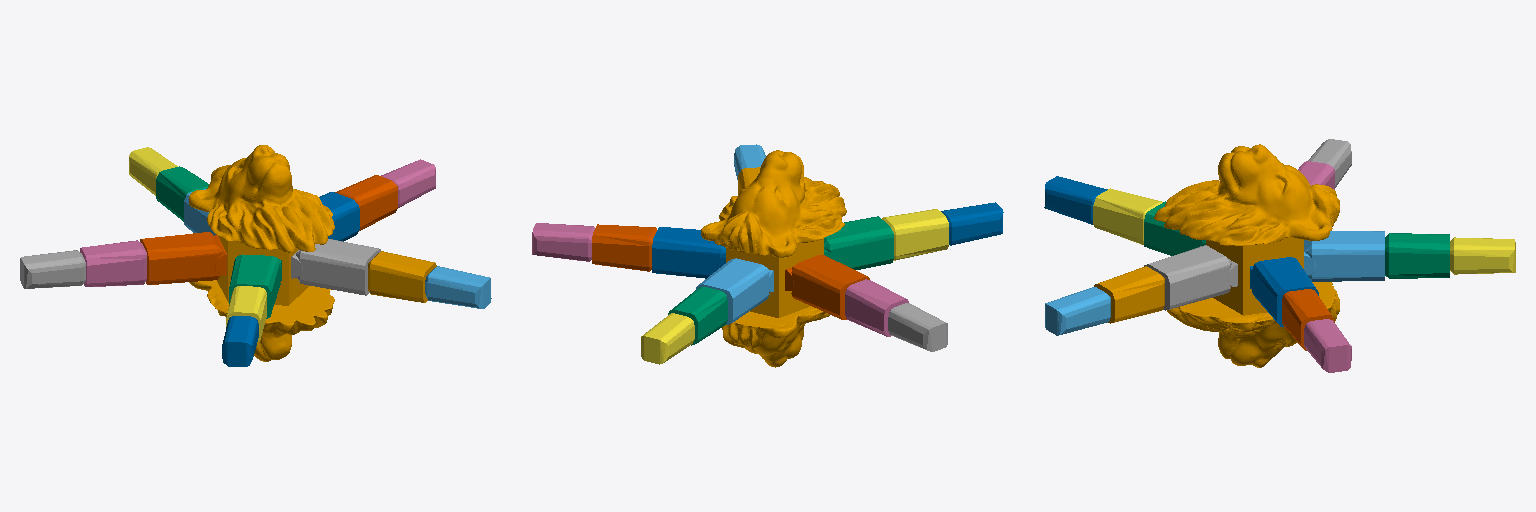
URDF robot description (buer):
<?xml version="1.0"?>
<robot name="buer">

  <!-- Head (Base link) -->
  <link name="head">
    <visual>
      <geometry>
        <mesh filename="obj/head.obj"/>
      </geometry>
      <!-- 材质可省略或补全 -->
    </visual>
    <collision>
      <geometry>
        <cylinder radius="1.0" length="1.0"/>
      </geometry>
    </collision>
    <inertial>
      <origin xyz="0 0 0" rpy="0 0 0"/>
      <mass value="8.0"/>
      <inertia ixx="1.5" ixy="0" ixz="0" iyy="1.5" iyz="0" izz="2.0"/>
    </inertial>
    <!-- IMU -->
    <sensor type="imu" name="imu">
      <origin xyz="0 0 0" rpy="0 0 0"/>
    </sensor>
  </link>

  <!-- Leg 1 -->
  <link name="leg1_lap">
    <visual>
      <geometry>
        <mesh filename="obj/lap.obj"/>
      </geometry>
    </visual>
    <collision>
      <geometry>
        <mesh filename="obj/lap.obj"/>
      </geometry>
    </collision>
    <inertial>
      <origin xyz="0 0 0.5" rpy="0 0 0"/>
      <mass value="1.2"/>
      <inertia ixx="0.08" ixy="0" ixz="0" iyy="0.08" iyz="0" izz="0.01"/>
    </inertial>
  </link>
  <joint name="leg1_lap_joint" type="revolute">
    <parent link="head"/>
    <child link="leg1_lap"/>
    <origin xyz="0 0.5505528 0" rpy="-1.57 0 0"/>
    <axis xyz="1 0 0"/>
    <limit effort="100.0" velocity="10.0" lower="-0.5" upper="0.5"/>
  </joint>

  <link name="leg1_calf">
    <visual>
      <geometry>
        <mesh filename="obj/calf.obj"/>
      </geometry>
    </visual>
    <collision>
      <geometry>
        <mesh filename="obj/calf.obj"/>
      </geometry>
    </collision>
    <inertial>
      <origin xyz="0 0 0.4" rpy="0 0 0"/>
      <mass value="0.8"/>
      <inertia ixx="0.04" ixy="0" ixz="0" iyy="0.04" iyz="0" izz="0.005"/>
    </inertial>
  </link>
  <joint name="leg1_calf_joint" type="revolute">
    <parent link="leg1_lap"/>
    <child link="leg1_calf"/>
    <origin xyz="0 0 1" rpy="0 0 1.5708"/> <!-- 90度=1.5708弧度 -->
    <axis xyz="1 0 0"/>
    <limit effort="100.0" velocity="10.0" lower="-1.57" upper="1.57" />
  </joint>

  <link name="leg1_foot">
    <visual>
      <geometry>
        <mesh filename="obj/foot.obj"/>
      </geometry>
    </visual>
    <collision>
      <geometry>
        <mesh filename="obj/foot.obj"/>
      </geometry>
    </collision>
    <inertial>
      <origin xyz="0 0 0" rpy="0 0 0"/>
      <mass value="0.5"/>
      <inertia ixx="0.02" ixy="0" ixz="0" iyy="0.02" iyz="0" izz="0.002"/>
    </inertial>
  </link>
  <joint name="leg1_foot_joint" type="revolute">
    <parent link="leg1_calf"/>
    <child link="leg1_foot"/>
    <origin xyz="0 0 0.8" rpy="0 0 0"/>
    <axis xyz="1 0 0"/>
    <limit effort="100.0" velocity="10.0" lower="-1.57" upper="1.57" />
  </joint>

  <!-- Leg 2 -->
  <link name="leg2_lap">
    <visual>
      <geometry>
        <mesh filename="obj/lap.obj"/>
      </geometry>
    </visual>
    <collision>
      <geometry>
        <mesh filename="obj/lap.obj"/>
      </geometry>
    </collision>
    <inertial>
      <origin xyz="0 0 0.5" rpy="0 0 0"/>
      <mass value="1.2"/>
      <inertia ixx="0.08" ixy="0" ixz="0" iyy="0.08" iyz="0" izz="0.01"/>
    </inertial>
  </link>
  <joint name="leg2_lap_joint" type="revolute">
    <parent link="head"/>
    <child link="leg2_lap"/>
    <origin xyz="0.5236 0.1701 0.0" rpy="-1.57 0 -1.257"/>
    <axis xyz="1 0 0"/>
    <limit effort="100.0" velocity="10.0" lower="-0.5" upper="0.5" />
  </joint>
  <link name="leg2_calf">
    <visual>
      <geometry>
        <mesh filename="obj/calf.obj"/>
      </geometry>
    </visual>
    <collision>
      <geometry>
        <mesh filename="obj/calf.obj"/>
      </geometry>
    </collision>
    <inertial>
      <origin xyz="0 0 0.4" rpy="0 0 0"/>
      <mass value="0.8"/>
      <inertia ixx="0.04" ixy="0" ixz="0" iyy="0.04" iyz="0" izz="0.005"/>
    </inertial>
  </link>
  <joint name="leg2_calf_joint" type="revolute">
    <parent link="leg2_lap"/>
    <child link="leg2_calf"/>
    <origin xyz="0 0 1" rpy="0 0 1.5708"/>
    <axis xyz="1 0 0"/>
    <limit effort="100.0" velocity="10.0" lower="-1.57" upper="1.57" />
  </joint>
  <link name="leg2_foot">
    <visual>
      <geometry>
        <mesh filename="obj/foot.obj"/>
      </geometry>
    </visual>
    <collision>
      <geometry>
        <mesh filename="obj/foot.obj"/>
      </geometry>
    </collision>
    <inertial>
      <origin xyz="0 0 0" rpy="0 0 0"/>
      <mass value="0.5"/>
      <inertia ixx="0.02" ixy="0" ixz="0" iyy="0.02" iyz="0" izz="0.002"/>
    </inertial>
  </link>
  <joint name="leg2_foot_joint" type="revolute">
    <parent link="leg2_calf"/>
    <child link="leg2_foot"/>
    <origin xyz="0 0 0.8" rpy="0 0 0"/>
    <axis xyz="1 0 0"/>
    <limit effort="100.0" velocity="10.0" lower="-1.57" upper="1.57" />
  </joint>

  <!-- Leg 3 -->
  <link name="leg3_lap">
    <visual>
      <geometry>
        <mesh filename="obj/lap.obj"/>
      </geometry>
    </visual>
    <collision>
      <geometry>
        <mesh filename="obj/lap.obj"/>
      </geometry>
    </collision>
    <inertial>
      <origin xyz="0 0 0.5" rpy="0 0 0"/>
      <mass value="1.2"/>
      <inertia ixx="0.08" ixy="0" ixz="0" iyy="0.08" iyz="0" izz="0.01"/>
    </inertial>
  </link>
  <joint name="leg3_lap_joint" type="revolute">
    <parent link="head"/>
    <child link="leg3_lap"/>
    <origin xyz="0.3236 -0.4454 0.0" rpy="-1.57 0 -2.513"/>
    <axis xyz="1 0 0"/>
    <limit effort="100.0" velocity="10.0" lower="-0.5" upper="0.5" />
  </joint>
  <link name="leg3_calf">
    <visual>
      <geometry>
        <mesh filename="obj/calf.obj"/>
      </geometry>
    </visual>
    <collision>
      <geometry>
        <mesh filename="obj/calf.obj"/>
      </geometry>
    </collision>
    <inertial>
      <origin xyz="0 0 0.4" rpy="0 0 0"/>
      <mass value="0.8"/>
      <inertia ixx="0.04" ixy="0" ixz="0" iyy="0.04" iyz="0" izz="0.005"/>
    </inertial>
  </link>
  <joint name="leg3_calf_joint" type="revolute">
    <parent link="leg3_lap"/>
    <child link="leg3_calf"/>
    <origin xyz="0 0 1" rpy="0 0 1.5708"/>
    <axis xyz="1 0 0"/>
    <limit effort="100.0" velocity="10.0" lower="-1.57" upper="1.57" />
  </joint>
  <link name="leg3_foot">
    <visual>
      <geometry>
        <mesh filename="obj/foot.obj"/>
      </geometry>
    </visual>
    <collision>
      <geometry>
        <mesh filename="obj/foot.obj"/>
      </geometry>
    </collision>
    <inertial>
      <origin xyz="0 0 0" rpy="0 0 0"/>
      <mass value="0.5"/>
      <inertia ixx="0.02" ixy="0" ixz="0" iyy="0.02" iyz="0" izz="0.002"/>
    </inertial>
  </link>
  <joint name="leg3_foot_joint" type="revolute">
    <parent link="leg3_calf"/>
    <child link="leg3_foot"/>
    <origin xyz="0 0 0.8" rpy="0 0 0"/>
    <axis xyz="1 0 0"/>
    <limit effort="100.0" velocity="10.0" lower="-1.57" upper="1.57" />
  </joint>

  <!-- Leg 4 -->
  <link name="leg4_lap">
    <visual>
      <geometry>
        <mesh filename="obj/lap.obj"/>
      </geometry>
    </visual>
    <collision>
      <geometry>
        <mesh filename="obj/lap.obj"/>
      </geometry>
    </collision>
    <inertial>
      <origin xyz="0 0 0.5" rpy="0 0 0"/>
      <mass value="1.2"/>
      <inertia ixx="0.08" ixy="0" ixz="0" iyy="0.08" iyz="0" izz="0.01"/>
    </inertial>
  </link>
  <joint name="leg4_lap_joint" type="revolute">
    <parent link="head"/>
    <child link="leg4_lap"/>
    <origin xyz="-0.3236 -0.4454 0.0" rpy="-1.57 0 2.513"/>
    <axis xyz="1 0 0"/>
    <limit effort="100.0" velocity="10.0" lower="-0.5" upper="0.5" />
  </joint>
  <link name="leg4_calf">
    <visual>
      <geometry>
        <mesh filename="obj/calf.obj"/>
      </geometry>
    </visual>
    <collision>
      <geometry>
        <mesh filename="obj/calf.obj"/>
      </geometry>
    </collision>
    <inertial>
      <origin xyz="0 0 0.4" rpy="0 0 0"/>
      <mass value="0.8"/>
      <inertia ixx="0.04" ixy="0" ixz="0" iyy="0.04" iyz="0" izz="0.005"/>
    </inertial>
  </link>
  <joint name="leg4_calf_joint" type="revolute">
    <parent link="leg4_lap"/>
    <child link="leg4_calf"/>
    <origin xyz="0 0 1" rpy="0 0 1.5708"/>
    <axis xyz="1 0 0"/>
    <limit effort="100.0" velocity="10.0" lower="-1.57" upper="1.57" />
  </joint>
  <link name="leg4_foot">
    <visual>
      <geometry>
        <mesh filename="obj/foot.obj"/>
      </geometry>
    </visual>
    <collision>
      <geometry>
        <mesh filename="obj/foot.obj"/>
      </geometry>
    </collision>
    <inertial>
      <origin xyz="0 0 0" rpy="0 0 0"/>
      <mass value="0.5"/>
      <inertia ixx="0.02" ixy="0" ixz="0" iyy="0.02" iyz="0" izz="0.002"/>
    </inertial>
  </link>
  <joint name="leg4_foot_joint" type="revolute">
    <parent link="leg4_calf"/>
    <child link="leg4_foot"/>
    <origin xyz="0 0 0.8" rpy="0 0 0"/>
    <axis xyz="1 0 0"/>
    <limit effort="100.0" velocity="10.0" lower="-1.57" upper="1.57" />
  </joint>

  <!-- Leg 5 -->
  <link name="leg5_lap">
    <visual>
      <geometry>
        <mesh filename="obj/lap.obj"/>
      </geometry>
    </visual>
    <collision>
      <geometry>
        <mesh filename="obj/lap.obj"/>
      </geometry>
    </collision>
    <inertial>
      <origin xyz="0 0 0.5" rpy="0 0 0"/>
      <mass value="1.2"/>
      <inertia ixx="0.08" ixy="0" ixz="0" iyy="0.08" iyz="0" izz="0.01"/>
    </inertial>
  </link>
  <joint name="leg5_lap_joint" type="revolute">
    <parent link="head"/>
    <child link="leg5_lap"/>
    <origin xyz="-0.5236 0.1701 0.0" rpy="-1.57 0 1.257"/>
    <axis xyz="1 0 0"/>
    <limit effort="100.0" velocity="10.0" lower="-0.5" upper="0.5" />
  </joint>
  <link name="leg5_calf">
    <visual>
      <geometry>
        <mesh filename="obj/calf.obj"/>
      </geometry>
    </visual>
    <collision>
      <geometry>
        <mesh filename="obj/calf.obj"/>
      </geometry>
    </collision>
    <inertial>
      <origin xyz="0 0 0.4" rpy="0 0 0"/>
      <mass value="0.8"/>
      <inertia ixx="0.04" ixy="0" ixz="0" iyy="0.04" iyz="0" izz="0.005"/>
    </inertial>
  </link>
  <joint name="leg5_calf_joint" type="revolute">
    <parent link="leg5_lap"/>
    <child link="leg5_calf"/>
    <origin xyz="0 0 1" rpy="0 0 1.5708"/>
    <axis xyz="1 0 0"/>
    <limit effort="100.0" velocity="10.0" lower="-1.57" upper="1.57" />
  </joint>
  <link name="leg5_foot">
    <visual>
      <geometry>
        <mesh filename="obj/foot.obj"/>
      </geometry>
    </visual>
    <collision>
      <geometry>
        <mesh filename="obj/foot.obj"/>
      </geometry>
    </collision>
    <inertial>
      <origin xyz="0 0 0" rpy="0 0 0"/>
      <mass value="0.5"/>
      <inertia ixx="0.02" ixy="0" ixz="0" iyy="0.02" iyz="0" izz="0.002"/>
    </inertial>
  </link>
  <joint name="leg5_foot_joint" type="revolute">
    <parent link="leg5_calf"/>
    <child link="leg5_foot"/>
    <origin xyz="0 0 0.8" rpy="0 0 0"/>
    <axis xyz="1 0 0"/>
    <limit effort="100.0" velocity="10.0" lower="-1.57" upper="1.57" />
  </joint>

</robot>

--- Facts derived from the render (not from the file) ---
Views: 3 orthographic renders of the robot side by side, from view 1: azimuth 30°, elevation 25°; view 2: azimuth 150°, elevation 25°; view 3: azimuth 270°, elevation 25°.
Model buer with 16 links and 15 joints (15 revolute), rooted at head, posed every joint at zero.
Visible links, largest first — view 1: head, leg5_lap, leg3_lap, leg5_calf, leg3_calf, leg5_foot, leg3_foot, leg2_calf, leg4_lap, leg4_foot, leg1_calf, leg2_foot (+4 smaller); view 2: head, leg5_lap, leg2_lap, leg4_lap, leg1_lap, leg2_calf, leg4_calf, leg5_calf, leg2_foot, leg5_foot, leg1_foot, leg4_foot (+2 smaller); view 3: head, leg1_lap, leg3_lap, leg1_calf, leg3_calf, leg2_lap, leg4_calf, leg3_foot, leg1_foot, leg2_foot, leg4_foot, leg2_calf (+3 smaller).
Link boxes in pixels (bbox=[...]): head: bbox=[189, 145, 334, 361]; leg5_lap: bbox=[140, 232, 226, 284]; leg3_lap: bbox=[291, 239, 380, 295]; leg5_calf: bbox=[80, 240, 146, 286]; leg3_calf: bbox=[368, 251, 436, 302]; leg5_foot: bbox=[20, 250, 85, 288]; leg3_foot: bbox=[425, 266, 491, 308]; leg2_calf: bbox=[335, 175, 397, 230]; leg4_lap: bbox=[229, 254, 281, 318]; leg4_foot: bbox=[222, 316, 258, 366]; leg1_calf: bbox=[156, 166, 208, 221]; leg2_foot: bbox=[381, 159, 435, 207]; head: bbox=[701, 150, 846, 367]; leg5_lap: bbox=[785, 255, 869, 319]; leg2_lap: bbox=[652, 227, 725, 278]; leg4_lap: bbox=[824, 216, 893, 269]; leg1_lap: bbox=[696, 258, 773, 324]; leg2_calf: bbox=[592, 224, 656, 271]; leg4_calf: bbox=[882, 209, 948, 260]; leg5_calf: bbox=[845, 279, 908, 336]; leg2_foot: bbox=[532, 223, 594, 261]; leg5_foot: bbox=[888, 303, 947, 351]; leg1_foot: bbox=[641, 313, 694, 364]; leg4_foot: bbox=[941, 202, 1003, 245]; head: bbox=[1154, 144, 1339, 367]; leg1_lap: bbox=[1304, 231, 1384, 281]; leg3_lap: bbox=[1144, 245, 1237, 310]; leg1_calf: bbox=[1385, 233, 1449, 278]; leg3_calf: bbox=[1094, 266, 1164, 323]; leg2_lap: bbox=[1250, 257, 1318, 326]; leg4_calf: bbox=[1093, 188, 1162, 244]; leg3_foot: bbox=[1045, 287, 1110, 335]; leg1_foot: bbox=[1450, 237, 1515, 274]; leg2_foot: bbox=[1304, 319, 1351, 372]; leg4_foot: bbox=[1044, 176, 1107, 224]; leg2_calf: bbox=[1282, 289, 1334, 350].
Bounding box of the posed robot: 6.07 × 5.78 × 3.01 m (x, y, z).
16 mesh visuals loaded from 4 distinct referenced files (4 OBJ).
